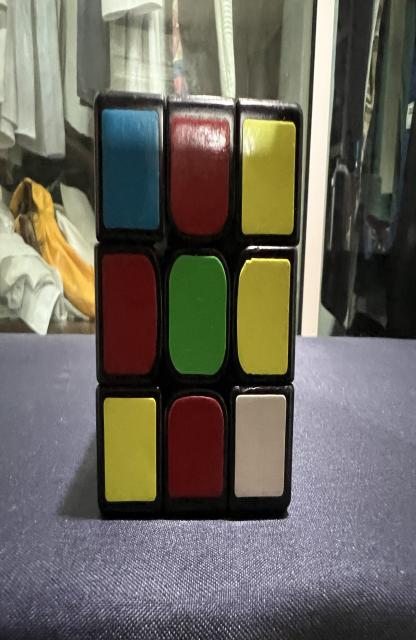Blue: (102, 108, 159, 230)
Green: (169, 255, 227, 375)
Red: (170, 115, 230, 235), (102, 253, 157, 375), (167, 395, 224, 498)
White: (235, 395, 287, 498)
Yellow: (241, 118, 296, 235), (237, 258, 290, 375), (103, 397, 157, 502)
